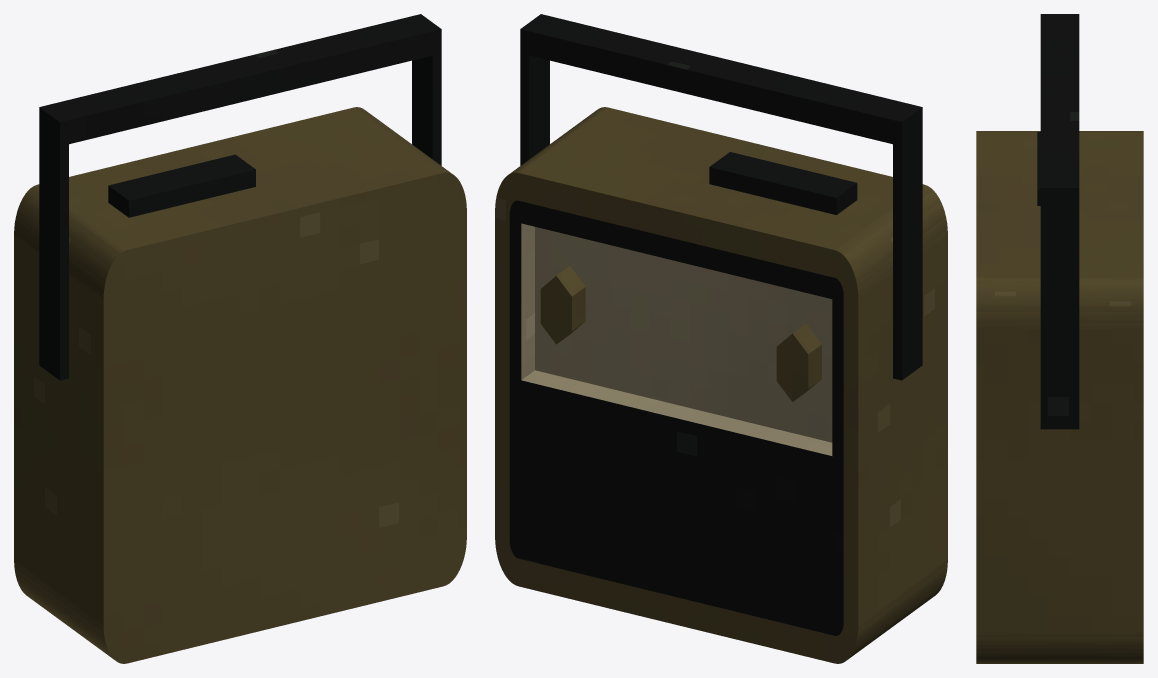
Rendered from item_artifactDetectorMk1.glb.
The picture shows the model from 3 angles, left to right: view 1: azimuth 30°, elevation 25°; view 2: azimuth 150°, elevation 25°; view 3: azimuth 270°, elevation 25°; orthographic projection. The views are drawn at different scales.
Visible parts, largest first — view 1: Donor_radio_0; view 2: Donor_radio_0; view 3: Donor_radio_0.
Part boxes in pixels (<box>): Donor_radio_0: <box>14,14,466,663</box>; Donor_radio_0: <box>495,14,947,663</box>; Donor_radio_0: <box>976,14,1143,663</box>.
Size of the model in its own units: 0.16 by 0.21 by 0.065.
3 materials, 3 textured.
